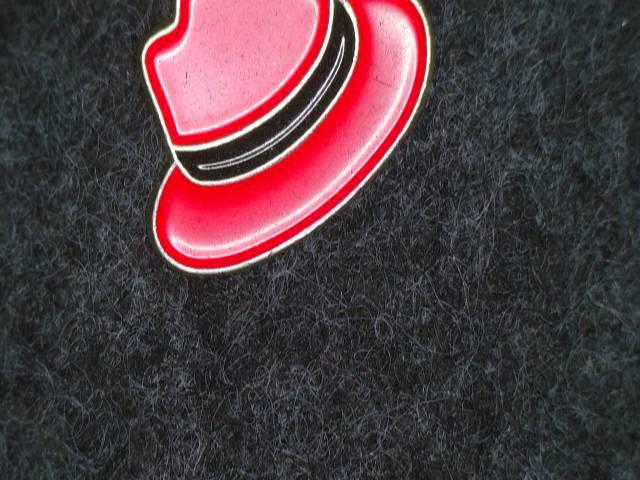Red-Hat: (133, 0, 454, 307)
